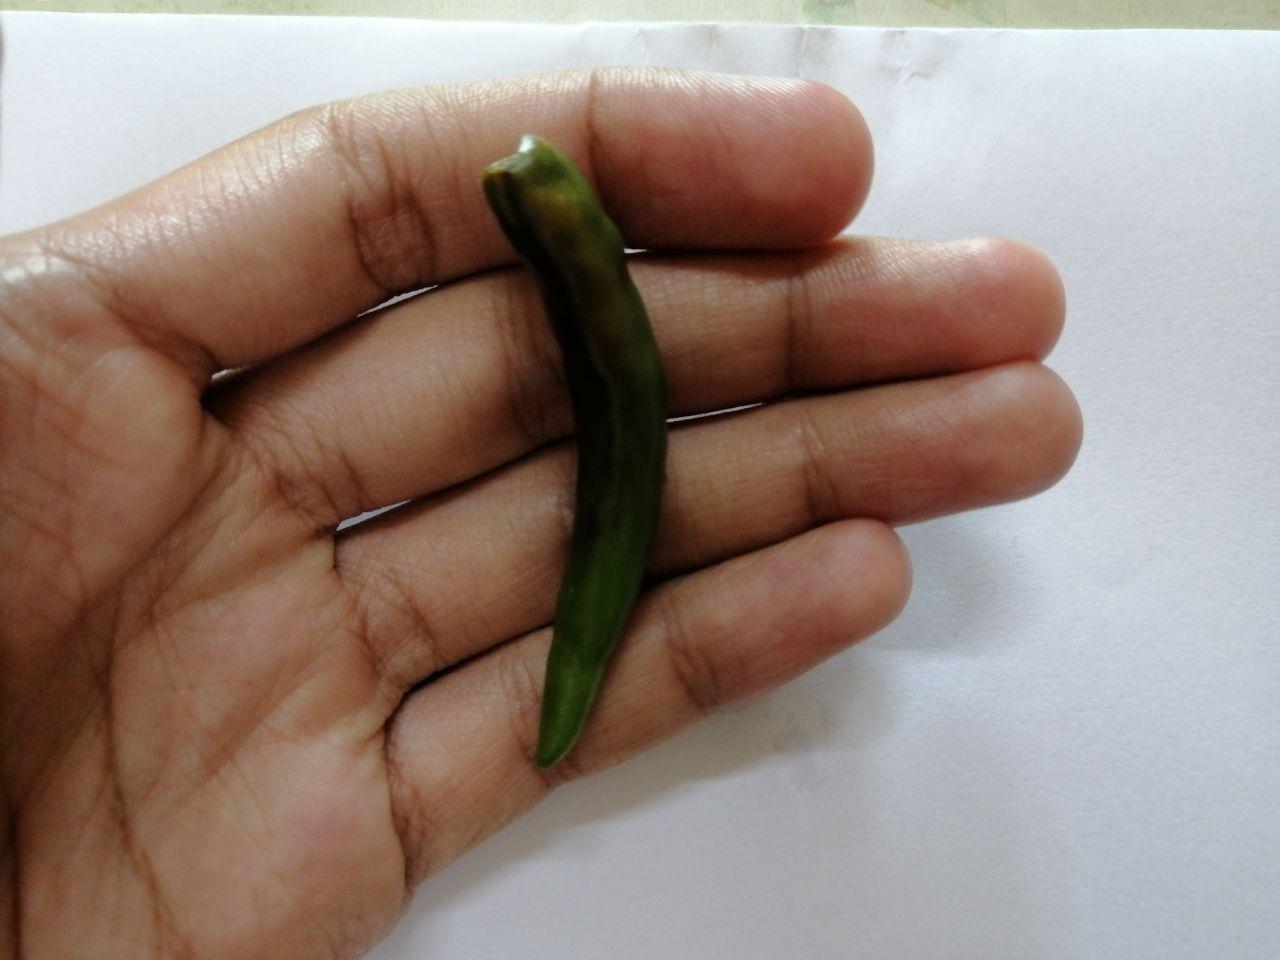lada hijau: (471, 130, 691, 786)
